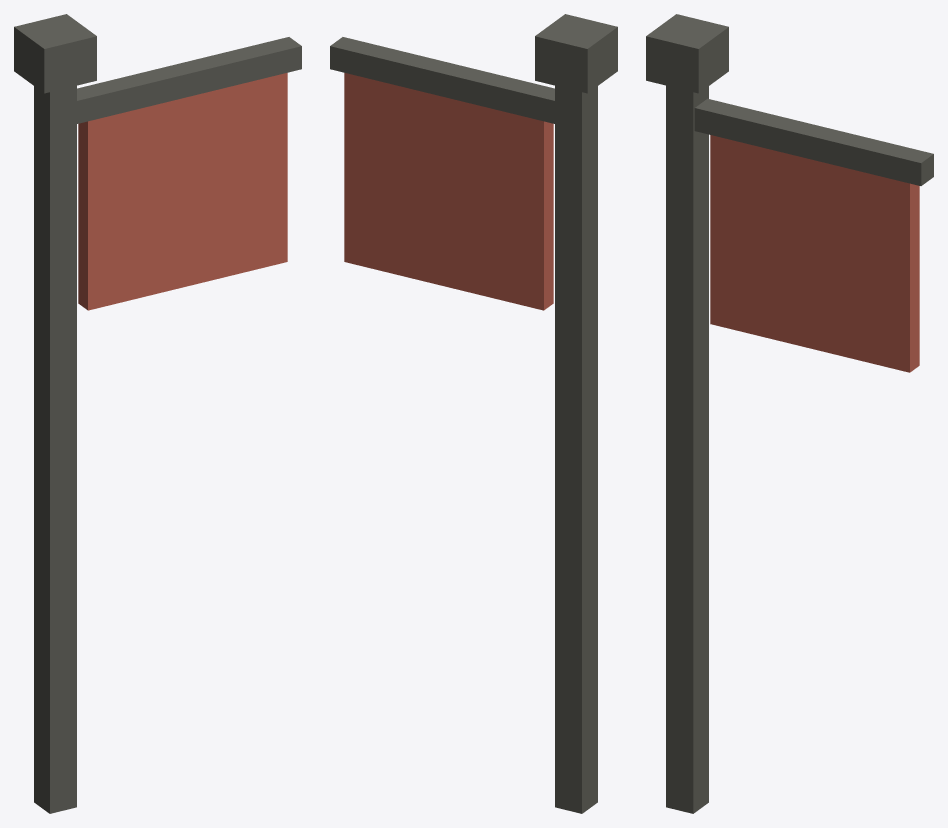
Rendered from flag_standard.glb.
3 renders of one model, left to right at view 1: azimuth 30°, elevation 25°; view 2: azimuth 150°, elevation 25°; view 3: azimuth 330°, elevation 25°, orthographic.
Parts seen in each view (by area): view 1: accent_Flag, Flag; view 2: accent_Flag, Flag; view 3: accent_Flag, Flag.
Boxes of the visible parts, x1=… form: accent_Flag: x1=14, y1=14, x2=301, y2=813; Flag: x1=78, y1=73, x2=287, y2=310; accent_Flag: x1=330, y1=14, x2=617, y2=813; Flag: x1=344, y1=73, x2=553, y2=310; accent_Flag: x1=646, y1=14, x2=933, y2=813; Flag: x1=710, y1=135, x2=919, y2=372.
Bounding box in the file's own units: 0.3135 × 0.87 × 0.062.
